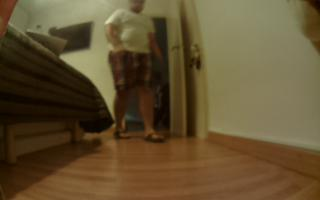person: (107, 1, 181, 148)
